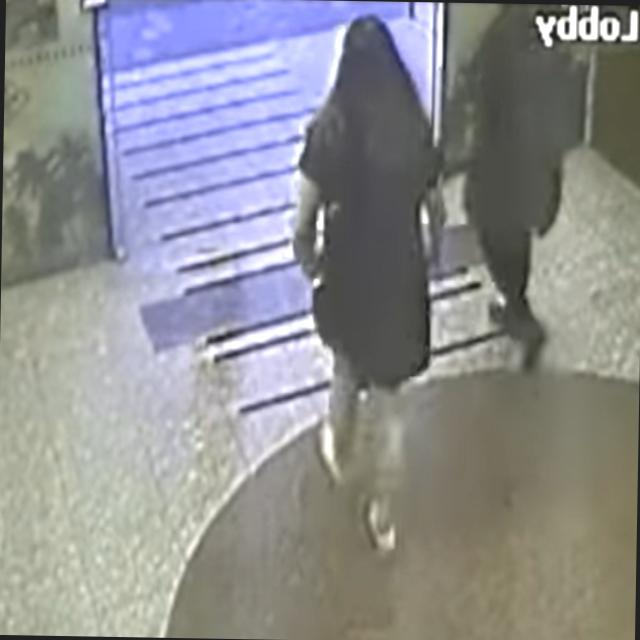person: (285, 11, 450, 558), (452, 2, 582, 374)
